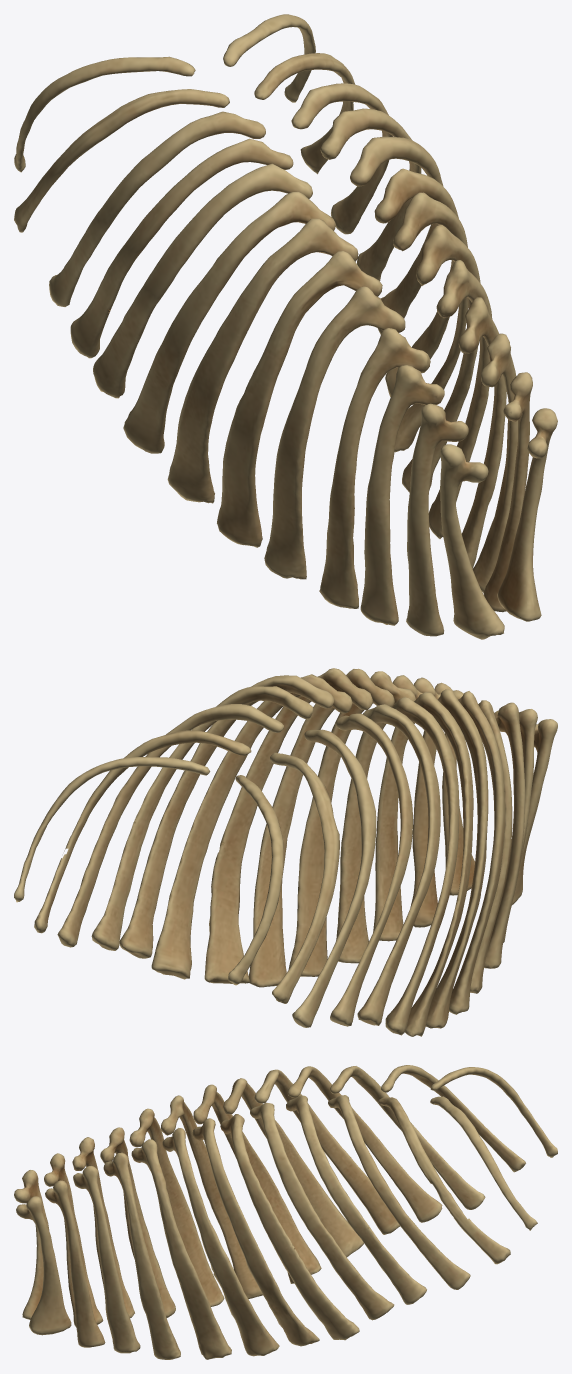
The model's file is Ribs.glb.
3 views of the same model, one above another, from view 1: azimuth 30°, elevation 25°; view 2: azimuth 150°, elevation 25°; view 3: azimuth 270°, elevation 25° (orthographic). The views are drawn at different scales.
Visible parts, largest first — view 1: Group14337; view 2: Group14337; view 3: Group14337.
Part boxes in pixels (x1=…): Group14337: x1=14, y1=14, x2=557, y2=639; Group14337: x1=14, y1=668, x2=557, y2=1036; Group14337: x1=14, y1=1065, x2=557, y2=1359.
Size of the model in its own units: 0.8786 by 1.06 by 2.
1 material, 1 textured.
